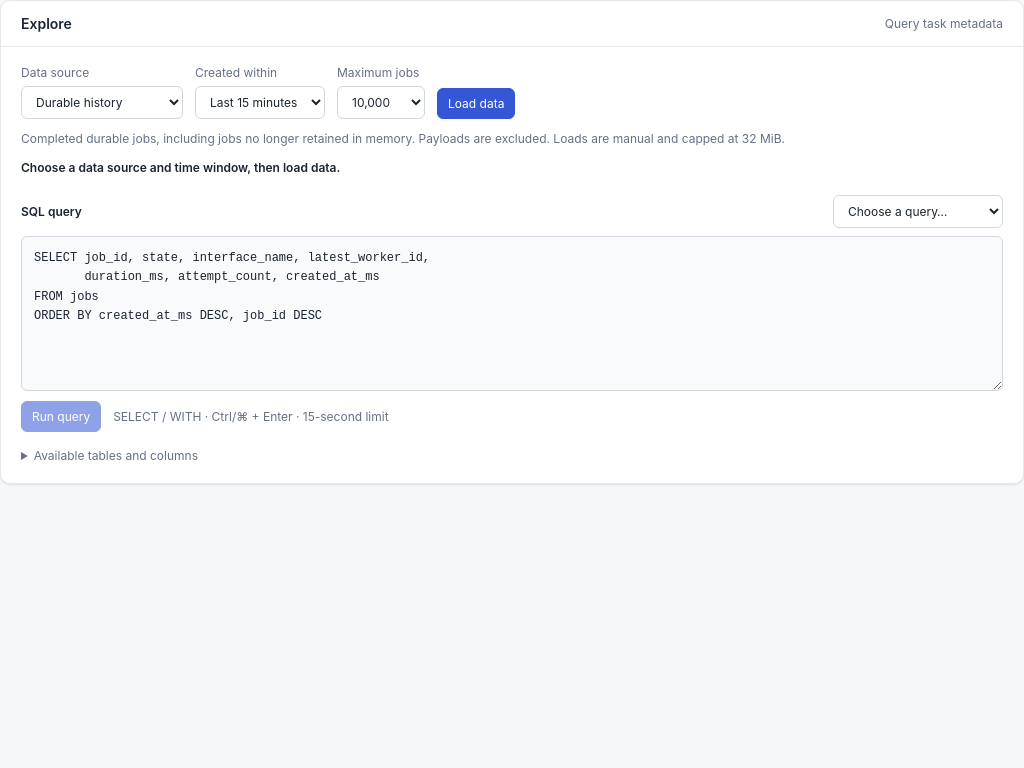
releases the database and shows a retryable state when metadata loading fails
Click the button "Load data" at (476,104), box x1=437 y1=88 x2=515 y2=119
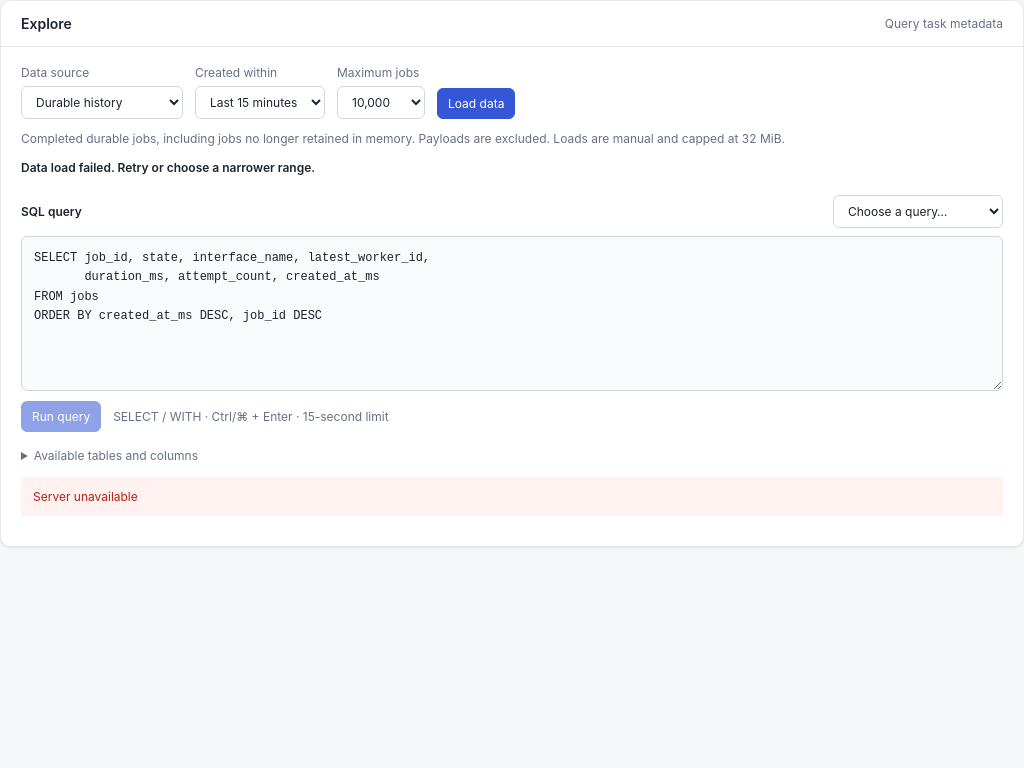
Check: the button "Run query" is disabled, box x1=21 y1=401 x2=101 y2=432
Check: the message "Server unavailable" is shown, box x1=21 y1=477 x2=1003 y2=516
Check: the message "Data load failed. Retry or choose a narrower range." is shown, box x1=21 y1=160 x2=315 y2=175
